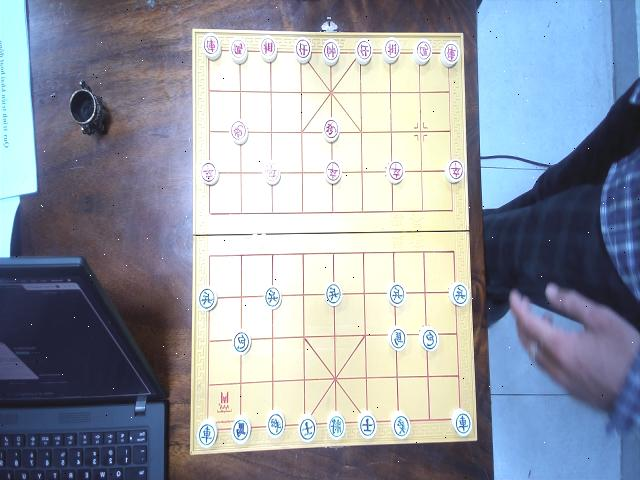piece: (196, 419, 218, 449), (450, 409, 472, 437), (231, 415, 251, 445), (448, 282, 470, 308), (390, 411, 410, 439), (326, 412, 346, 440), (266, 411, 286, 439), (440, 40, 460, 68), (358, 412, 377, 440), (197, 286, 217, 312), (444, 158, 464, 184), (412, 39, 432, 65), (387, 326, 407, 352), (419, 326, 439, 352), (201, 33, 221, 59), (199, 160, 219, 186), (299, 414, 317, 442), (229, 36, 247, 64), (354, 39, 373, 65), (382, 38, 401, 64), (322, 40, 340, 66), (294, 38, 312, 64), (388, 282, 406, 308), (260, 36, 278, 62), (232, 330, 250, 356), (322, 117, 340, 143), (230, 120, 248, 146), (324, 283, 342, 307), (386, 160, 404, 184), (263, 286, 281, 310), (324, 160, 342, 184), (264, 162, 280, 186)
